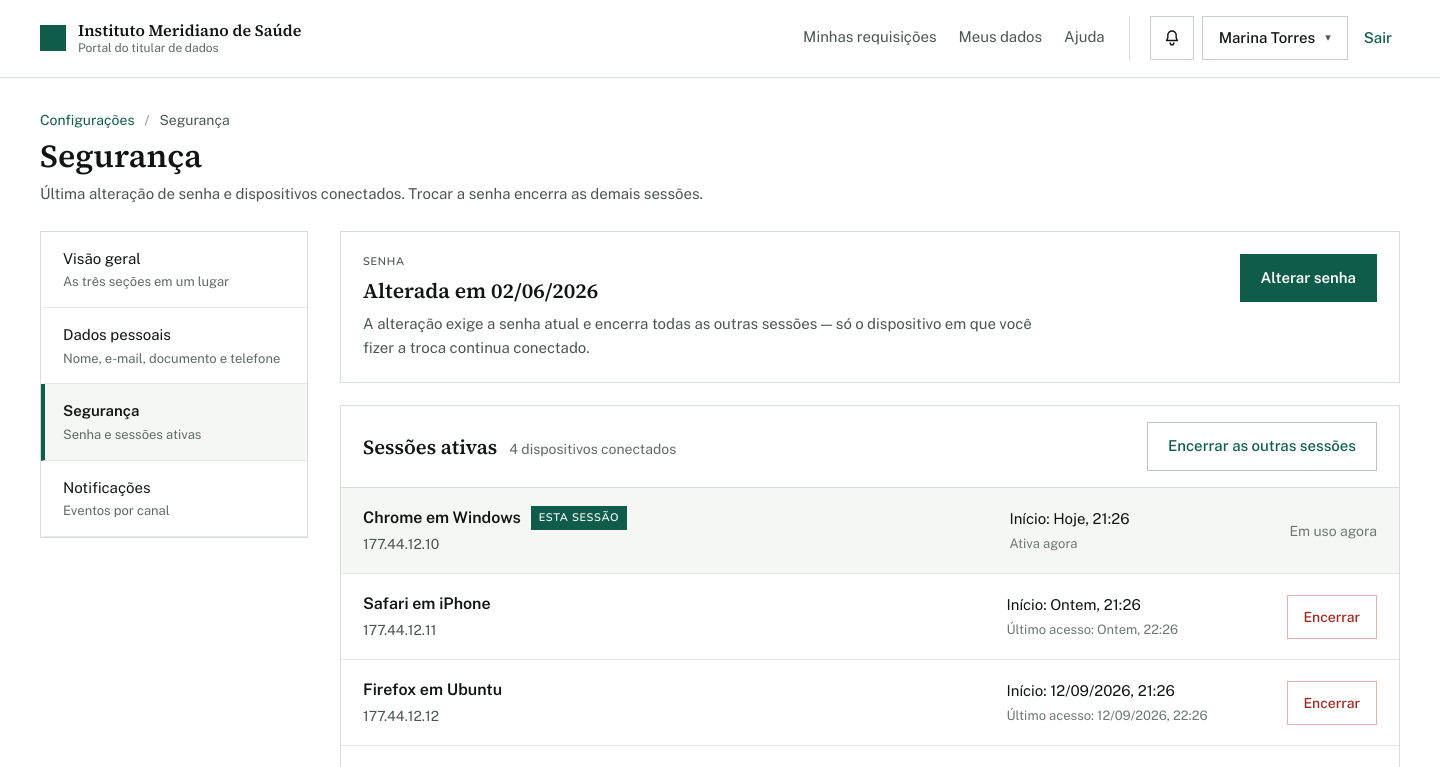
Test: Segurança › encerra as outras sessões depois de confirmar
This screenshot has width=1440, height=767.
Click the button "Encerrar as outras sessões".
click(1262, 447)  # box top-left (1147, 422), bottom-right (1377, 471)
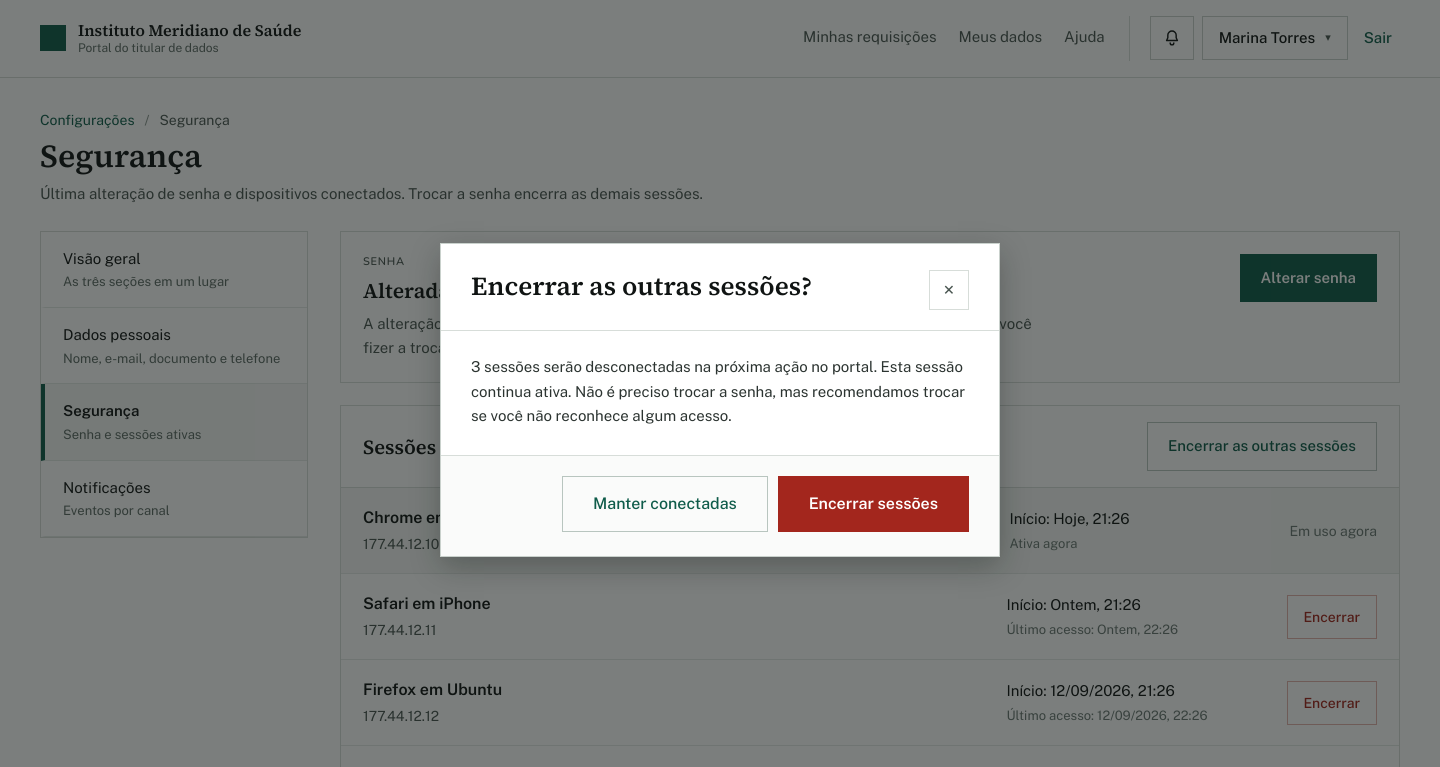
Click the button "Manter conectadas".
click(665, 504)  # box top-left (562, 476), bottom-right (768, 532)
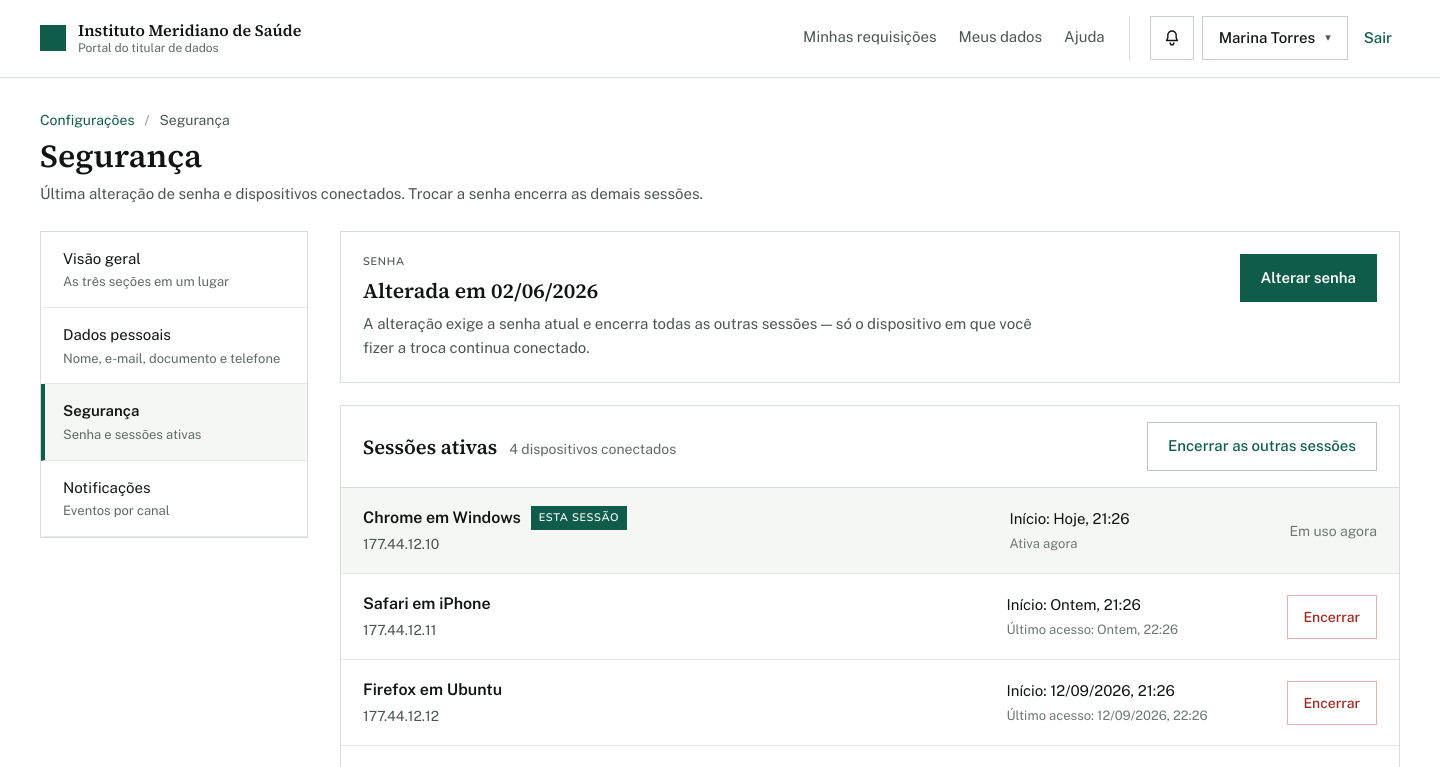
Expected: the text "4 dispositivos conectados" is shown, top-left (509, 439), bottom-right (676, 459)
Click the button "Encerrar as outras sessões".
click(1262, 447)  # box top-left (1147, 422), bottom-right (1377, 471)
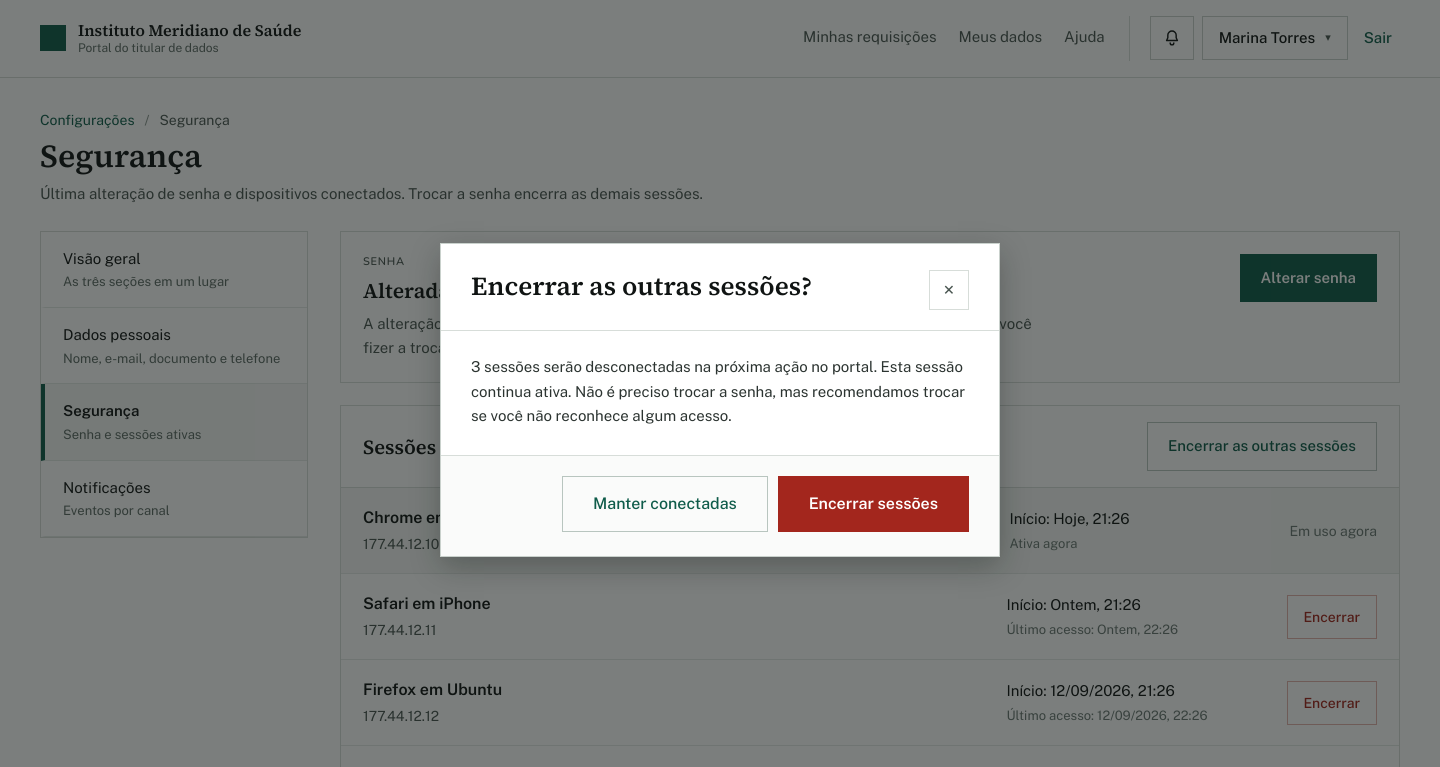
Click the button "Encerrar sessões".
click(874, 504)  # box top-left (778, 476), bottom-right (969, 532)
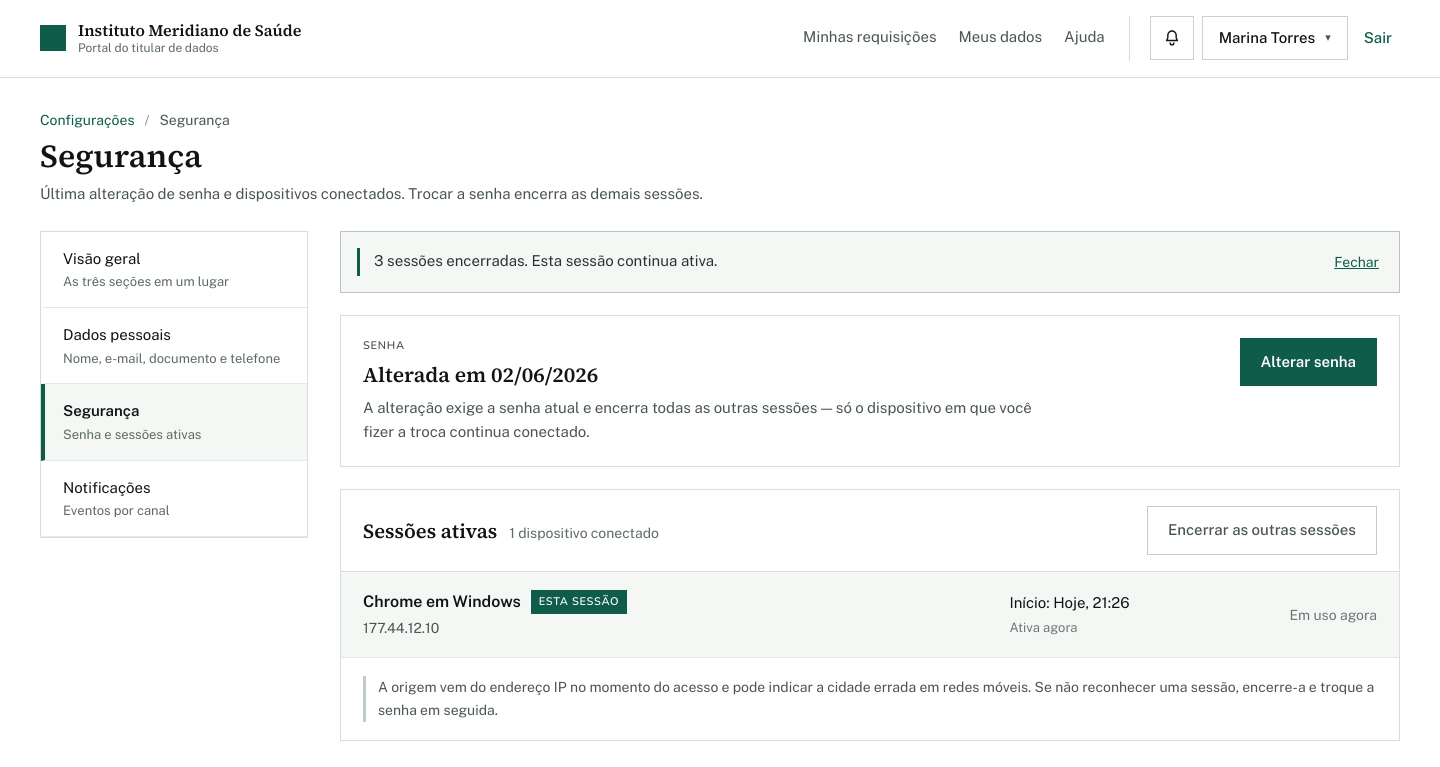
Now the text "3 sessões encerradas. Esta sessão continua ativa." is shown, box top-left (374, 252), bottom-right (718, 269)
Now the button "Encerrar as outras sessões" is disabled, box top-left (1147, 506), bottom-right (1377, 555)
